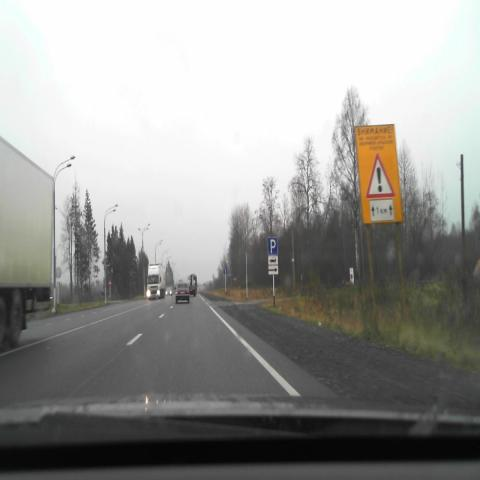1_33: (366, 152, 395, 200)
